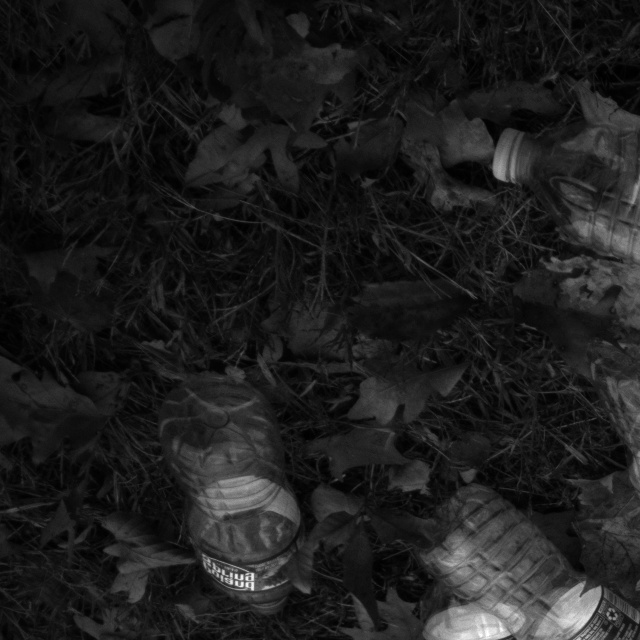bottle: (416, 477, 640, 640), (164, 371, 303, 616), (486, 113, 640, 332), (415, 532, 552, 640)
